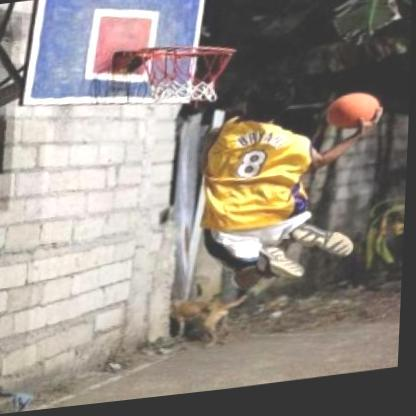basketball: (328, 99, 378, 139)
